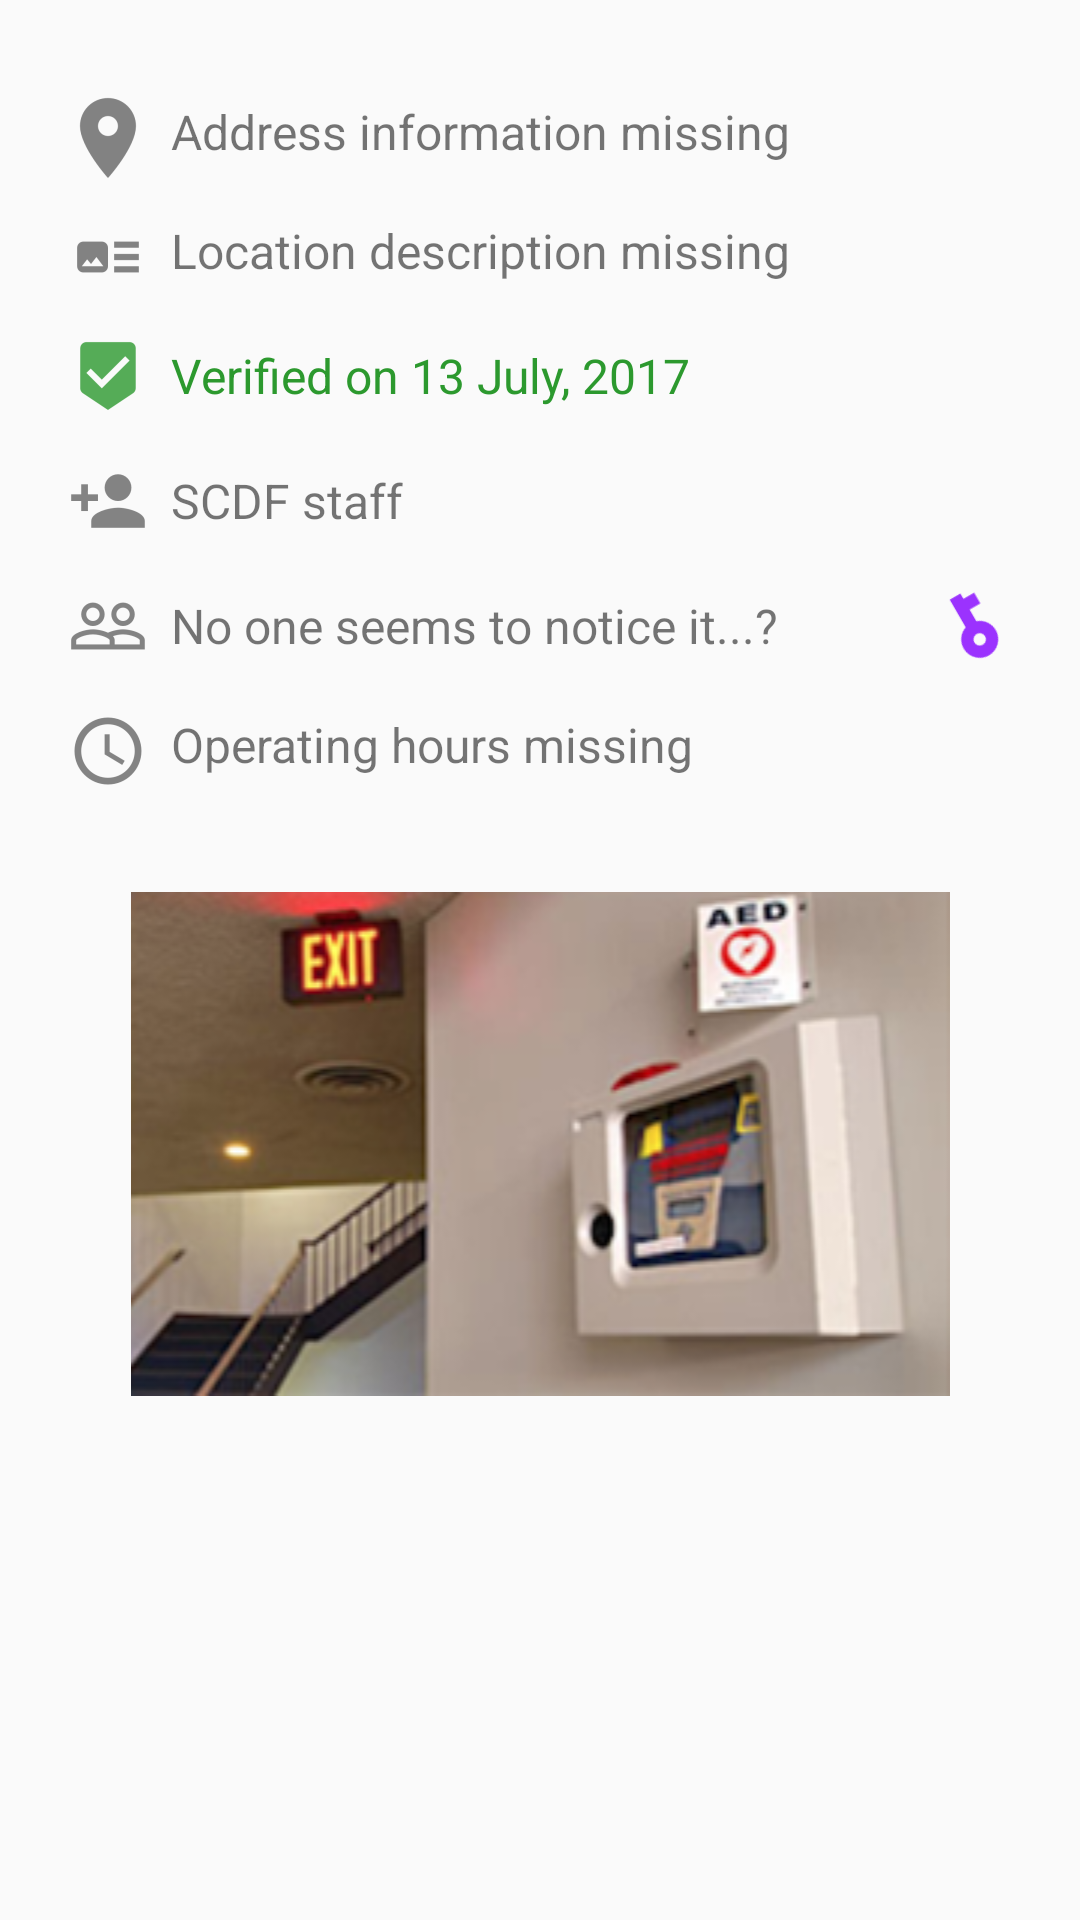

Screen size 1080w x 1920h. Icon name, then its box in pixels as BBox(x1, y1, x2, y2):
ic aed address: BBox(80, 98, 136, 178)
person add contributor: BBox(71, 474, 145, 528)
person been crowd: BBox(71, 602, 145, 650)
status: BBox(80, 342, 136, 410)
time hours: BBox(74, 717, 142, 785)
